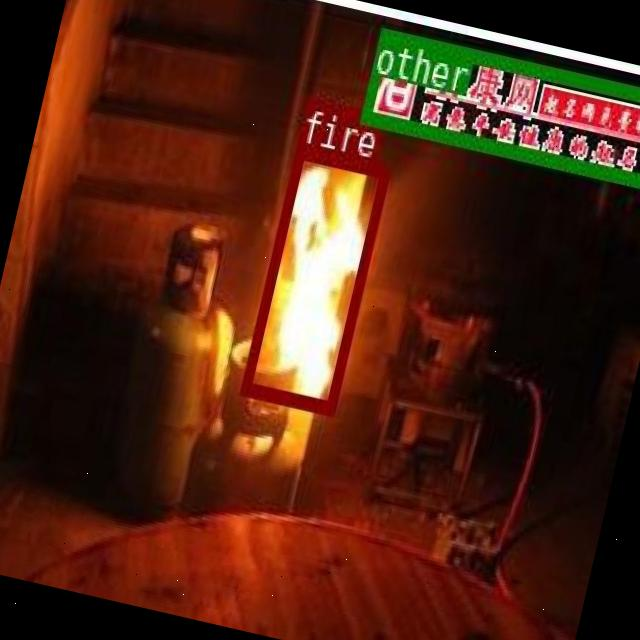fire: (238, 142, 389, 412)
